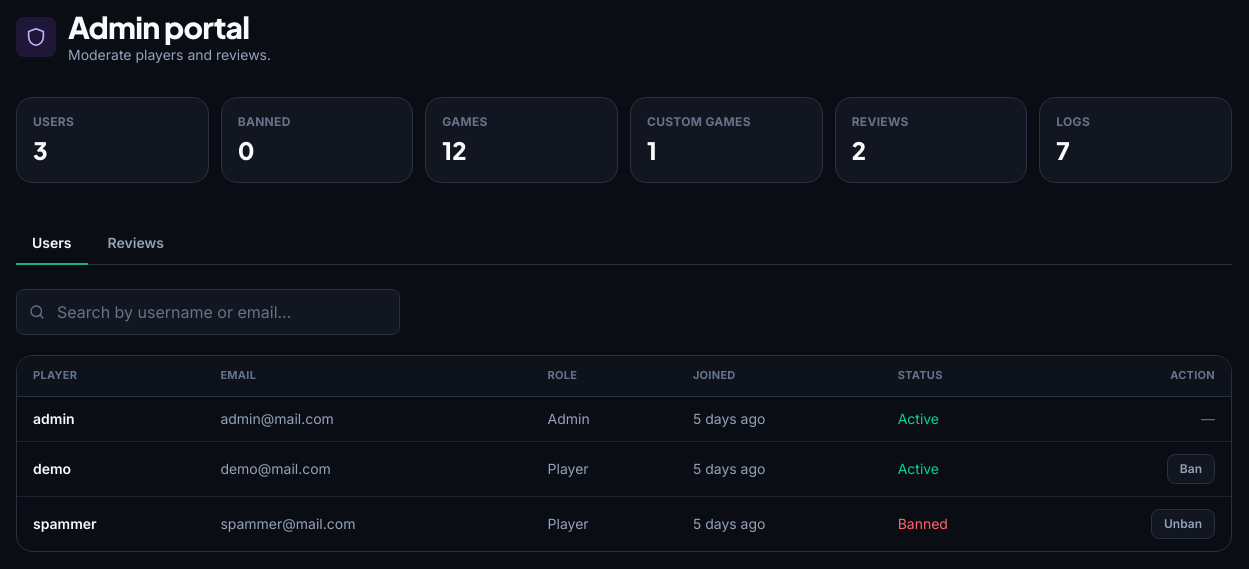
Test: AdminView › bans a player after confirming and refreshes the stats
Click the button with test id "ban" showing "Ban": (1191, 469) top-left (1167, 454), bottom-right (1215, 484)
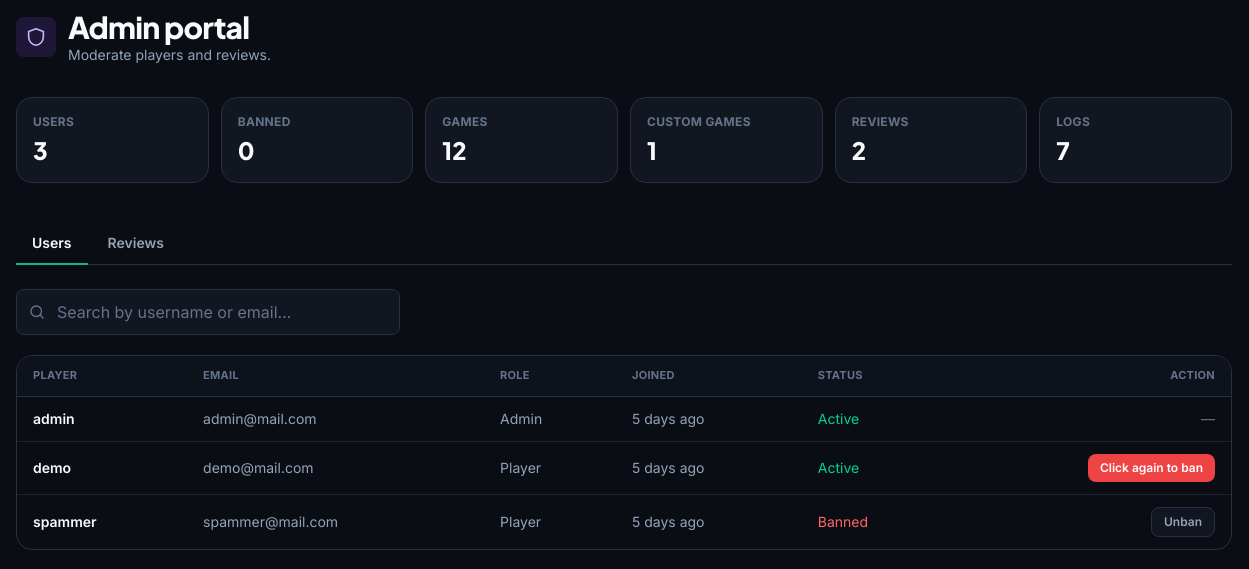
Click the button with test id "ban" showing "Click again to ban": (1151, 468) top-left (1088, 454), bottom-right (1215, 482)
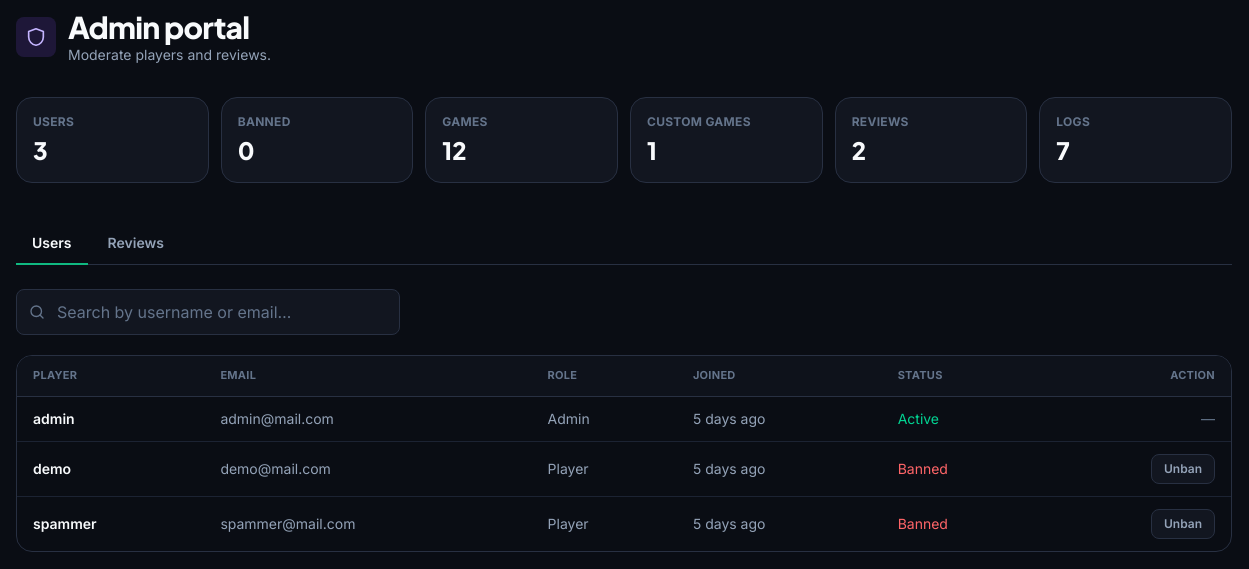
Result: the row with test id "user-demo" shows "Banned" at top-left (898, 460), bottom-right (948, 477)
